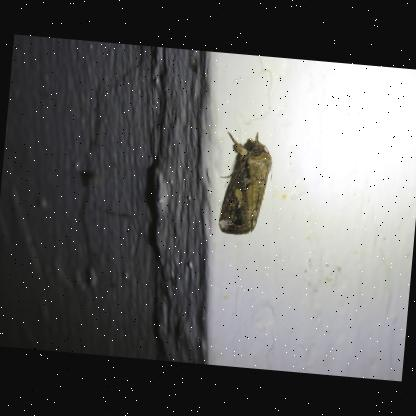Fall Armyworm Moth: (213, 127, 278, 239)
